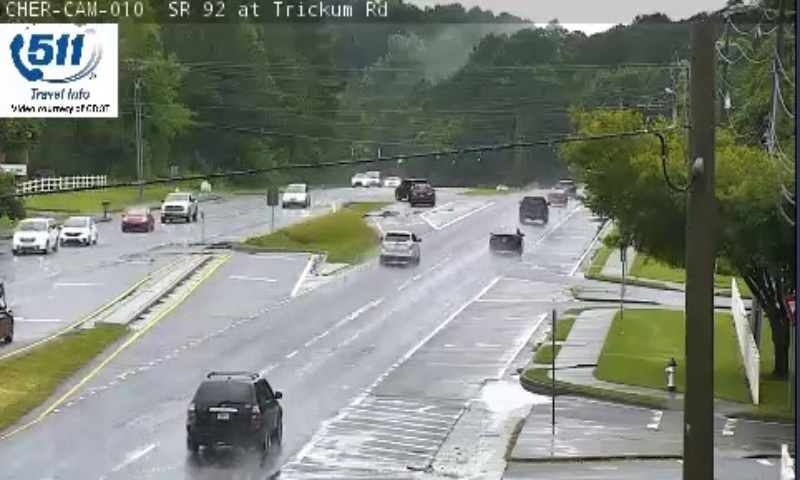car: (185, 371, 282, 443), (380, 230, 419, 261), (489, 225, 523, 252), (519, 196, 549, 225)
